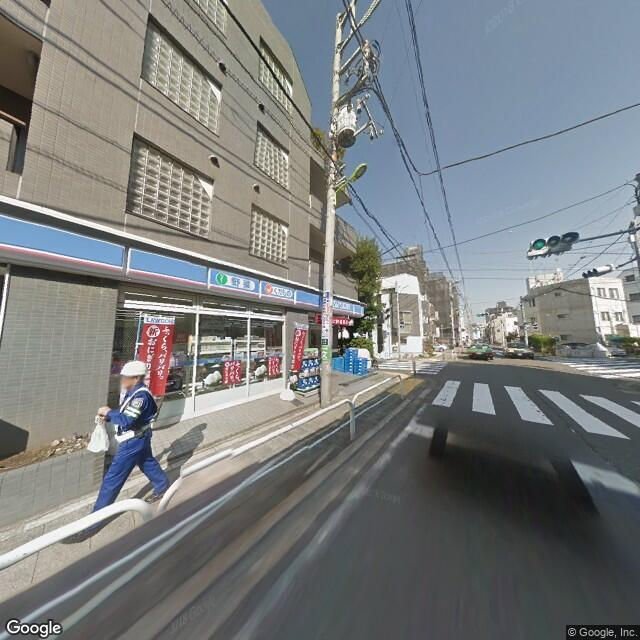lawson: (1, 211, 363, 321)
